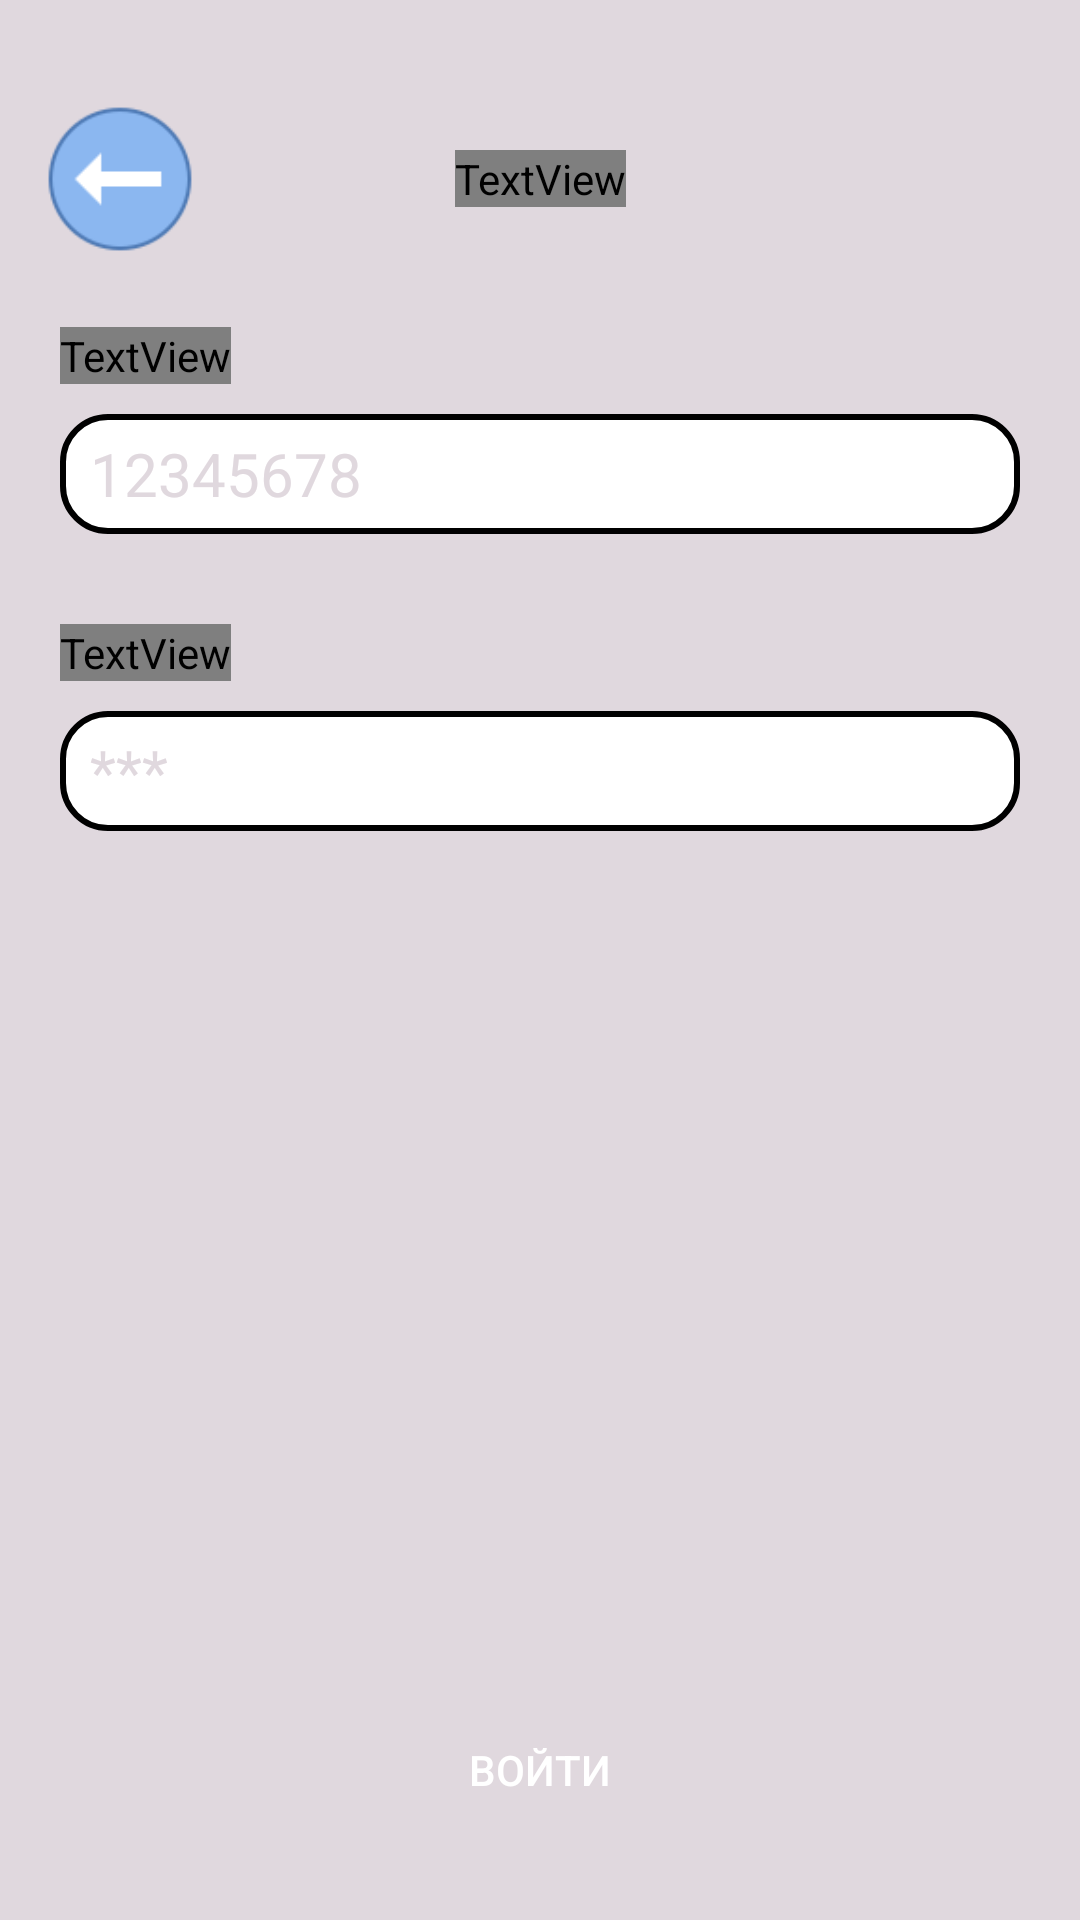

Named icons in this screenshot (1080×1920) and their bounding boxes, BBox(x1, y1, x2, y2):
back: BBox(48, 107, 192, 251)
